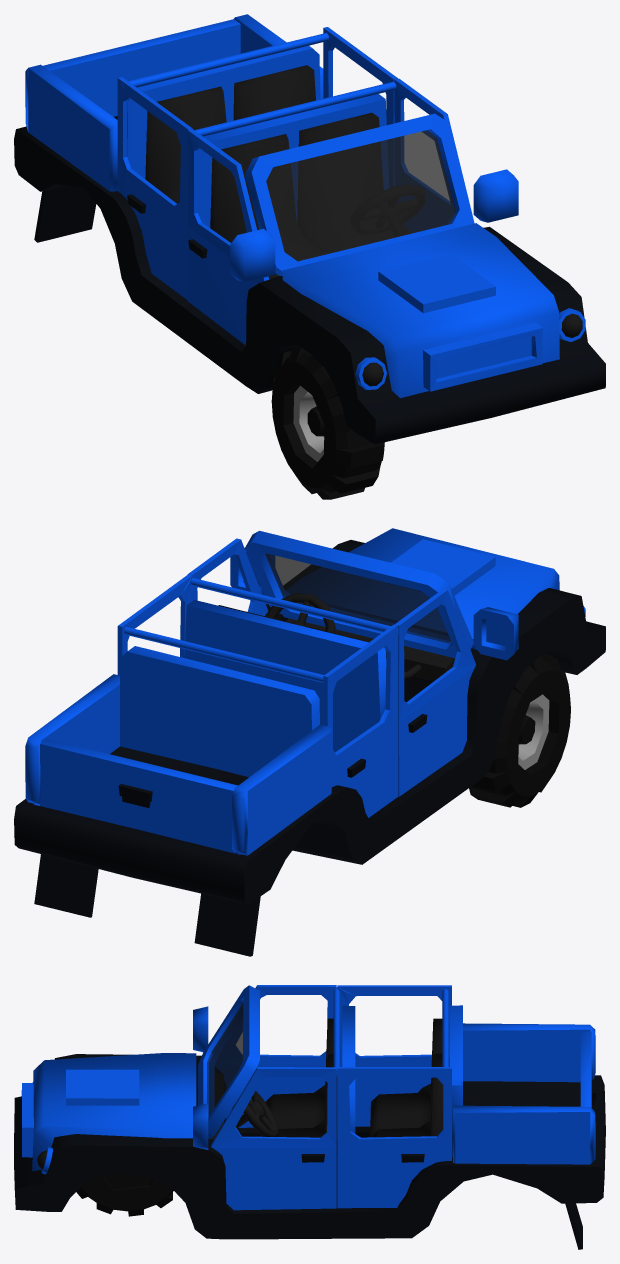
File: jipuche.FBX
3 renders of one model, top to bottom at view 1: azimuth 30°, elevation 25°; view 2: azimuth 150°, elevation 25°; view 3: azimuth 270°, elevation 25°, orthographic. The views are drawn at different scales.
Visible parts, largest first — view 1: jipuche, jipuche_luntai; view 2: jipuche, jipuche_luntai; view 3: jipuche, jipuche_luntai.
Boxes of the visible parts, bbox=[...] form: jipuche: bbox=[14, 14, 605, 444]; jipuche_luntai: bbox=[271, 345, 384, 499]; jipuche: bbox=[14, 528, 605, 956]; jipuche_luntai: bbox=[469, 654, 570, 807]; jipuche: bbox=[14, 985, 605, 1249]; jipuche_luntai: bbox=[76, 1174, 173, 1216].
Bounding box in the file's own units: 170 × 159 × 377.
